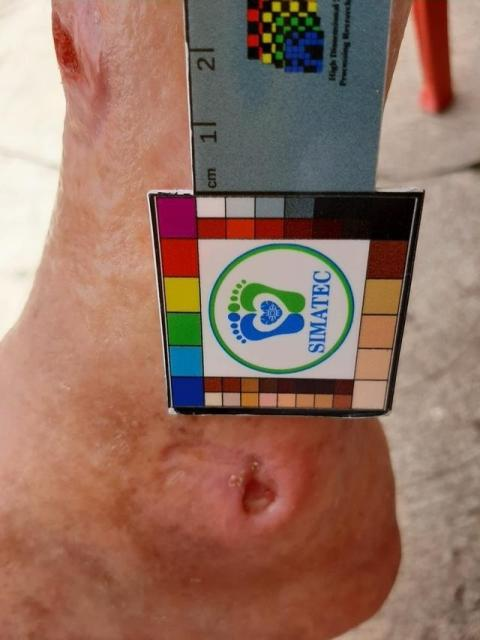wound: (226, 452, 279, 516)
